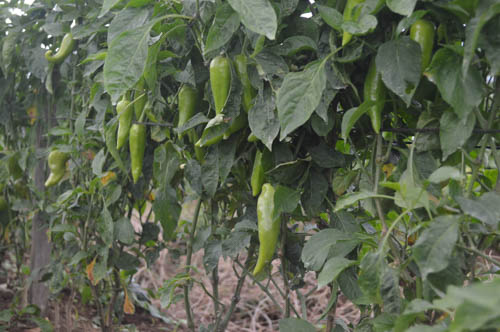ChiliPepper: (244, 184, 281, 282), (359, 57, 388, 128), (125, 124, 152, 180), (208, 55, 232, 116), (192, 119, 240, 149), (406, 21, 437, 65), (336, 2, 365, 48), (38, 149, 68, 193), (171, 86, 193, 137), (41, 32, 74, 64), (247, 149, 268, 199), (113, 100, 131, 150)
